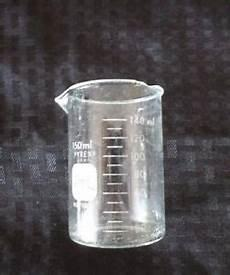Beaker: (51, 80, 171, 253)
